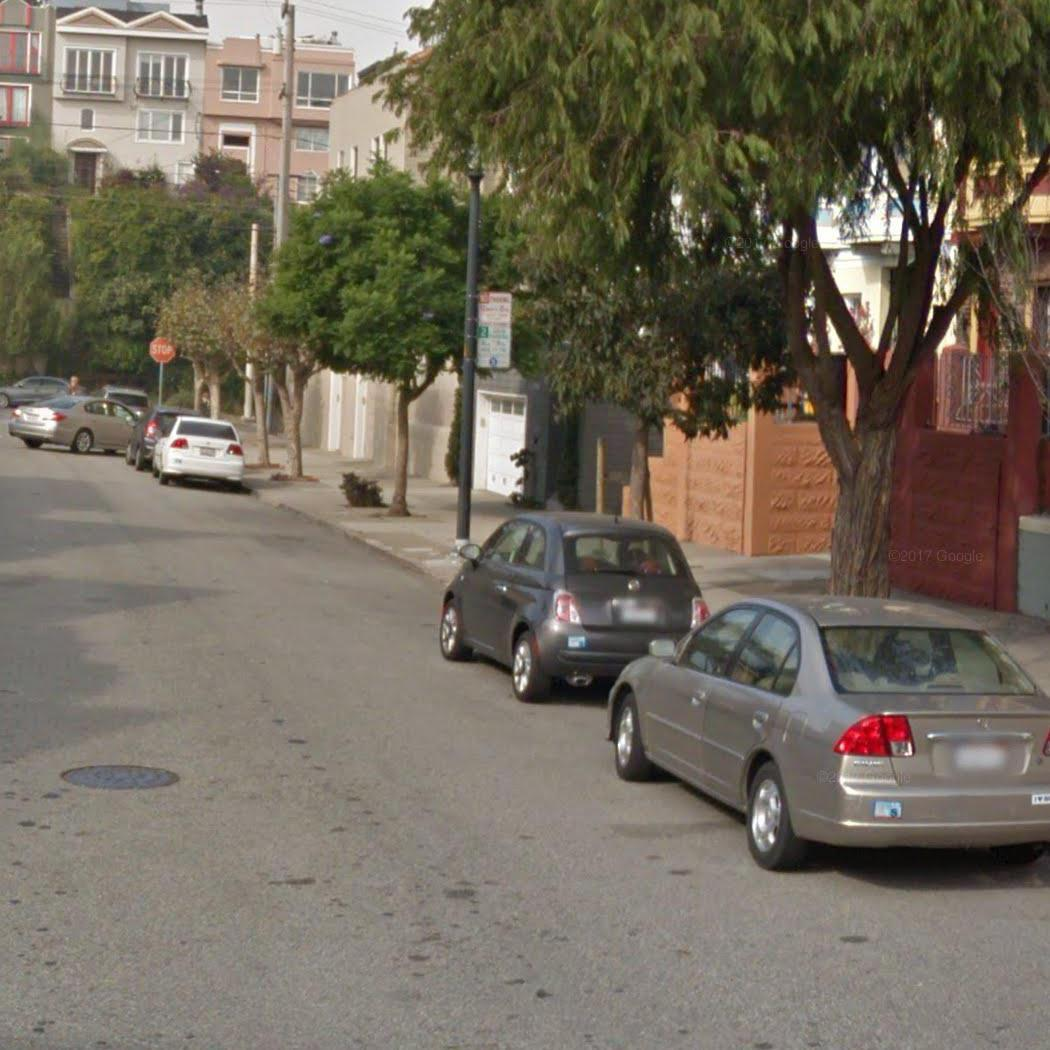2 Hour Parking: (473, 325, 513, 372)
No Parking: (475, 290, 514, 326)
